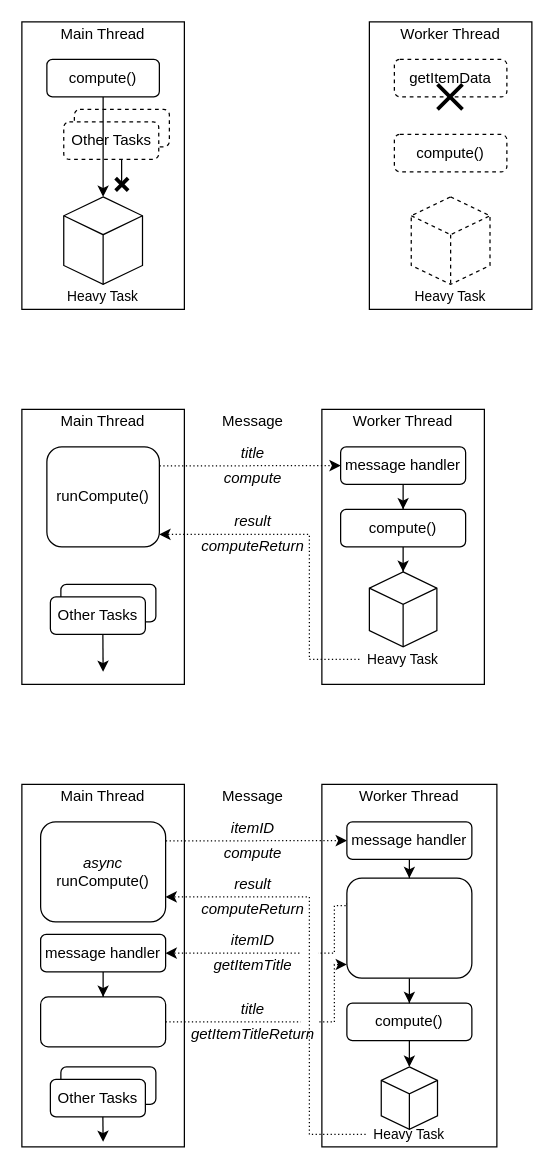
Some shapes in this 554 by 1174 pixel diagram are drawn without their labels. Here are the shapes that lost their labels. From the top down, the centre of each, then its label:
At pixel 409 927: "async runGetItemTitle()".
At pixel 102 1021: "wrapper:: getItemTitle".
